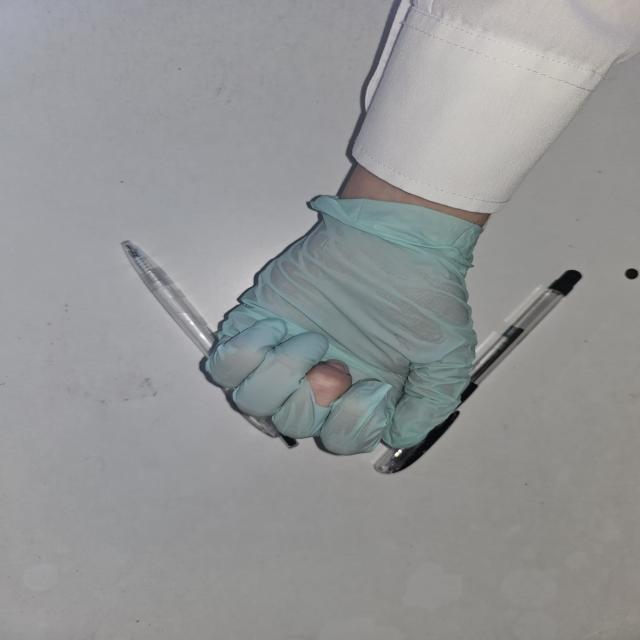gloves_damaged: (194, 190, 481, 452)
